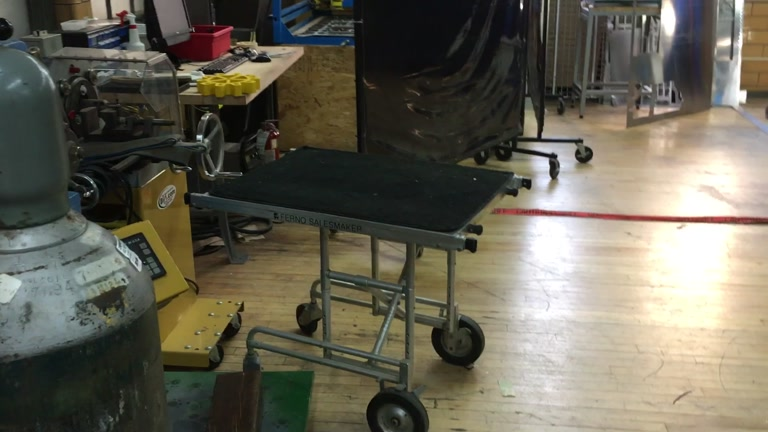gear: (197, 69, 260, 96)
